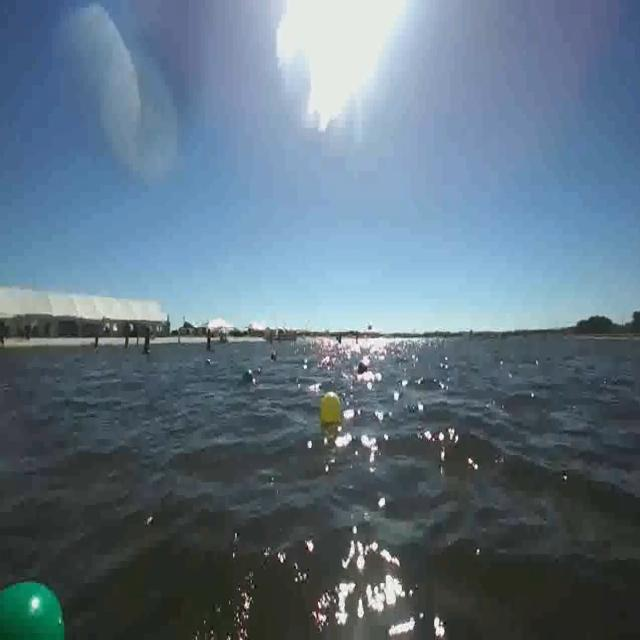green-buoy: (0, 574, 72, 639)
yellow-buoy: (321, 390, 345, 426)
